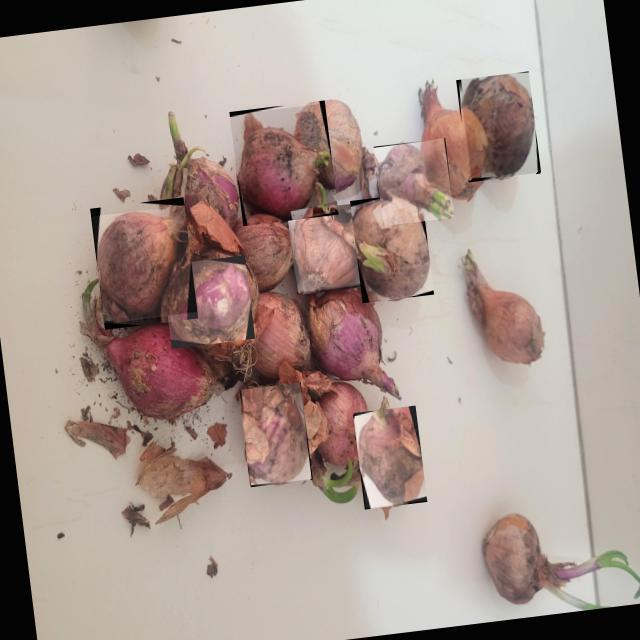rotten: (97, 206, 186, 321), (237, 113, 331, 221), (161, 255, 255, 349), (352, 196, 429, 299), (462, 75, 533, 177), (358, 409, 423, 504), (378, 143, 454, 219), (249, 387, 307, 484), (291, 209, 359, 289)
